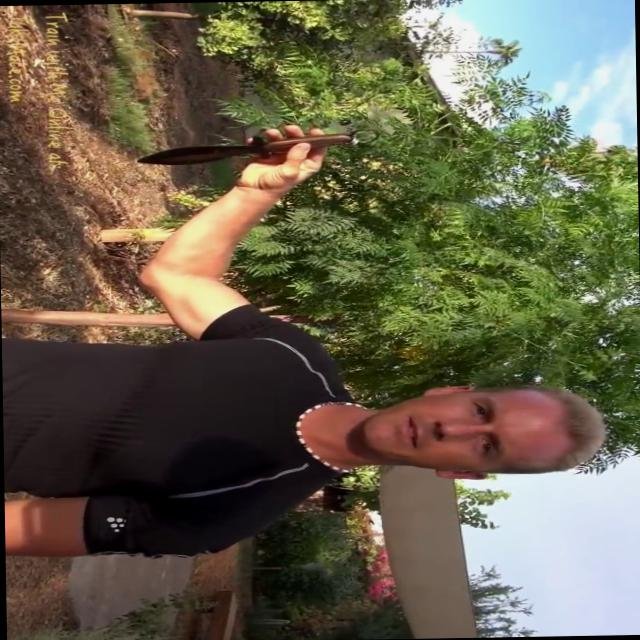knife: (135, 120, 390, 172)
